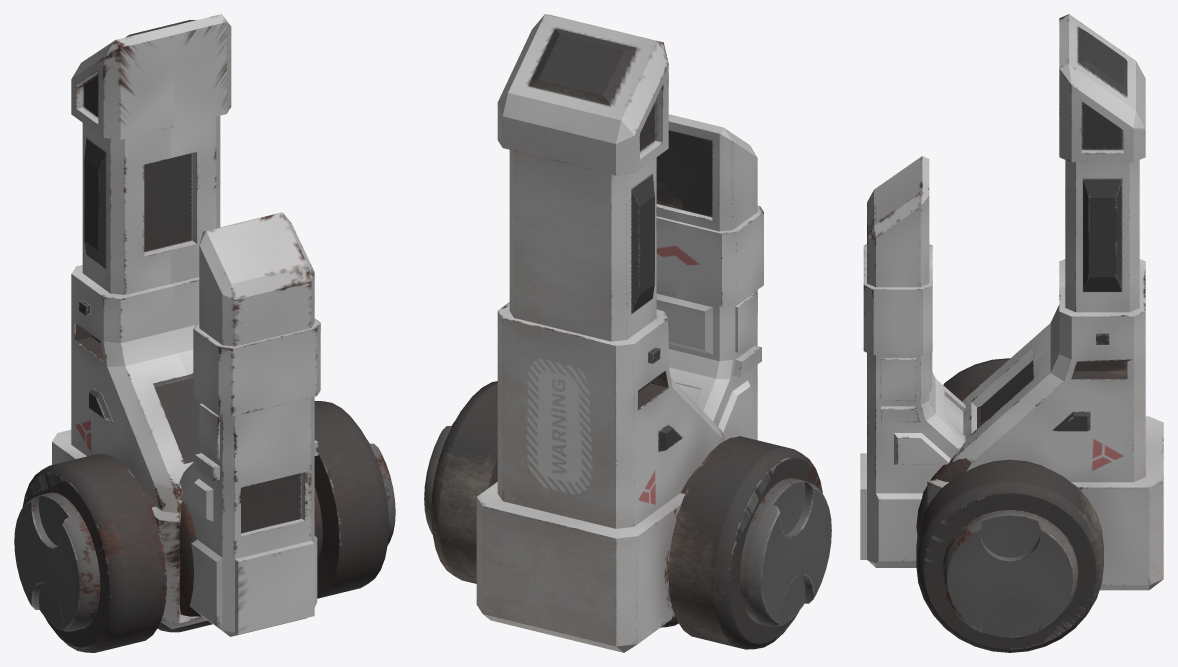
The model's file is grabber.fbx.
3 views of the same model, side by side, from view 1: azimuth 30°, elevation 25°; view 2: azimuth 150°, elevation 25°; view 3: azimuth 270°, elevation 25° (orthographic). The views are drawn at different scales.
Visible parts, largest first — view 1: grabber_R; view 2: grabber_R; view 3: grabber_R.
Part boxes in pixels (<box>): grabber_R: <box>14,14,395,652</box>; grabber_R: <box>424,14,831,652</box>; grabber_R: <box>860,14,1163,652</box>.
Bounding box in the file's own units: 21.64 × 37.1 × 18.59.
